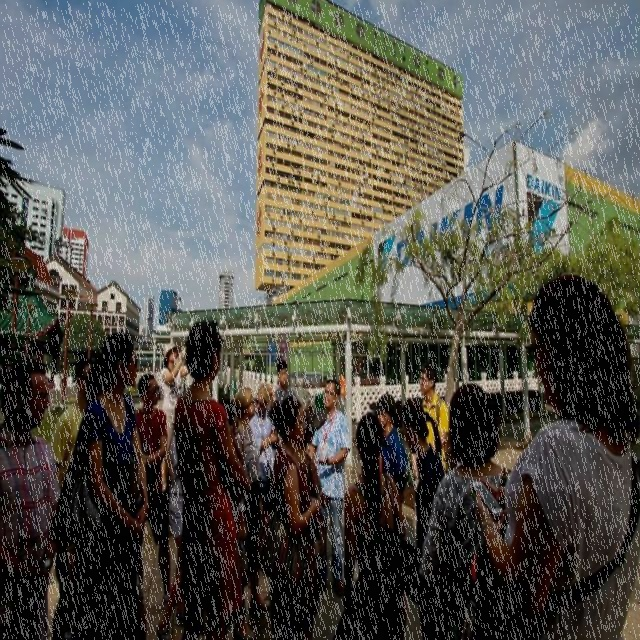pessoa: (464, 270, 640, 639), (172, 312, 256, 639), (418, 382, 514, 639), (76, 328, 150, 639), (0, 356, 62, 639), (338, 410, 407, 640), (268, 393, 324, 639), (214, 396, 258, 639), (308, 378, 352, 599), (133, 372, 174, 606), (232, 384, 266, 618), (400, 396, 446, 561), (49, 355, 100, 500), (164, 423, 198, 624), (412, 360, 451, 492), (158, 338, 190, 476), (247, 382, 286, 489), (368, 393, 411, 472), (293, 394, 327, 461), (274, 358, 298, 404), (438, 428, 453, 486)
